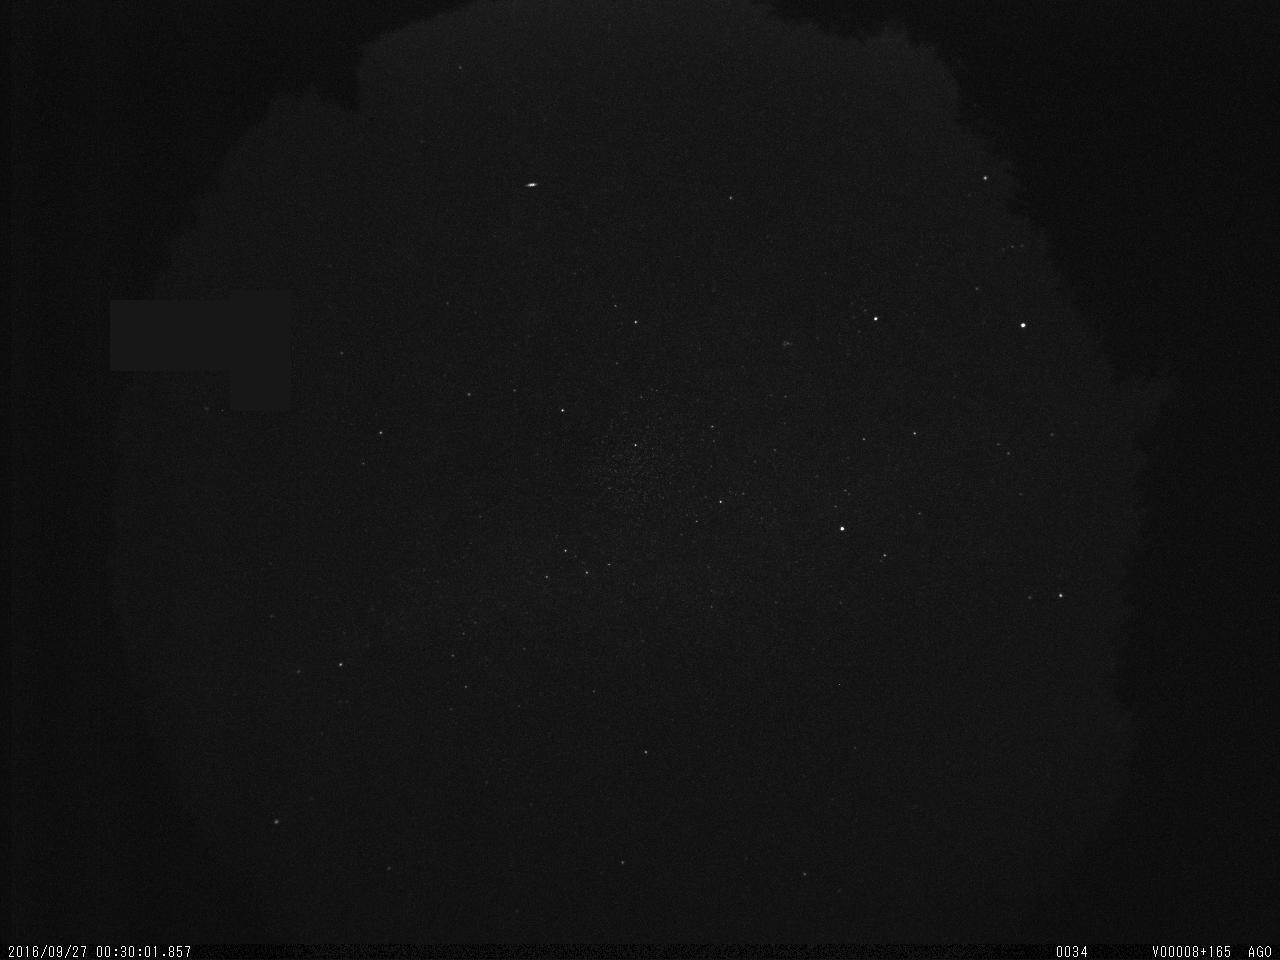Meteor: (521, 177, 543, 193)
